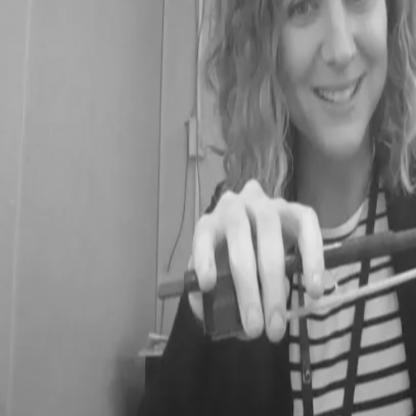good: (190, 165, 333, 345)
